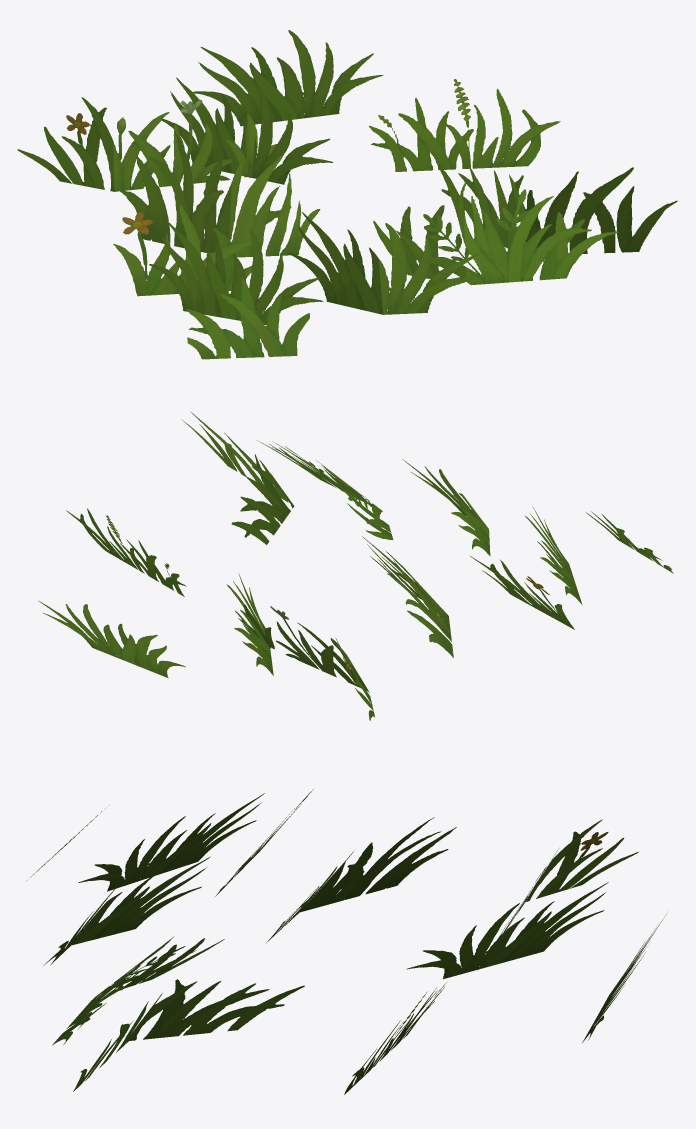
Rendered from grass_03.FBX.
The picture shows the model from 3 angles, top to bottom: view 1: azimuth 30°, elevation 25°; view 2: azimuth 150°, elevation 25°; view 3: azimuth 270°, elevation 25°; orthographic projection. The views are drawn at different scales.
Parts seen in each view (by area): view 1: Plane004; view 2: Plane004; view 3: Plane004.
Boxes of the visible parts, x1=… form: Plane004: x1=17, y1=30, x2=677, y2=359; Plane004: x1=38, y1=411, x2=673, y2=720; Plane004: x1=27, y1=789, x2=666, y2=1094.
Size of the model in its own units: 2 by 0.3521 by 1.96.
Materials: 1 (1 with a texture image).
